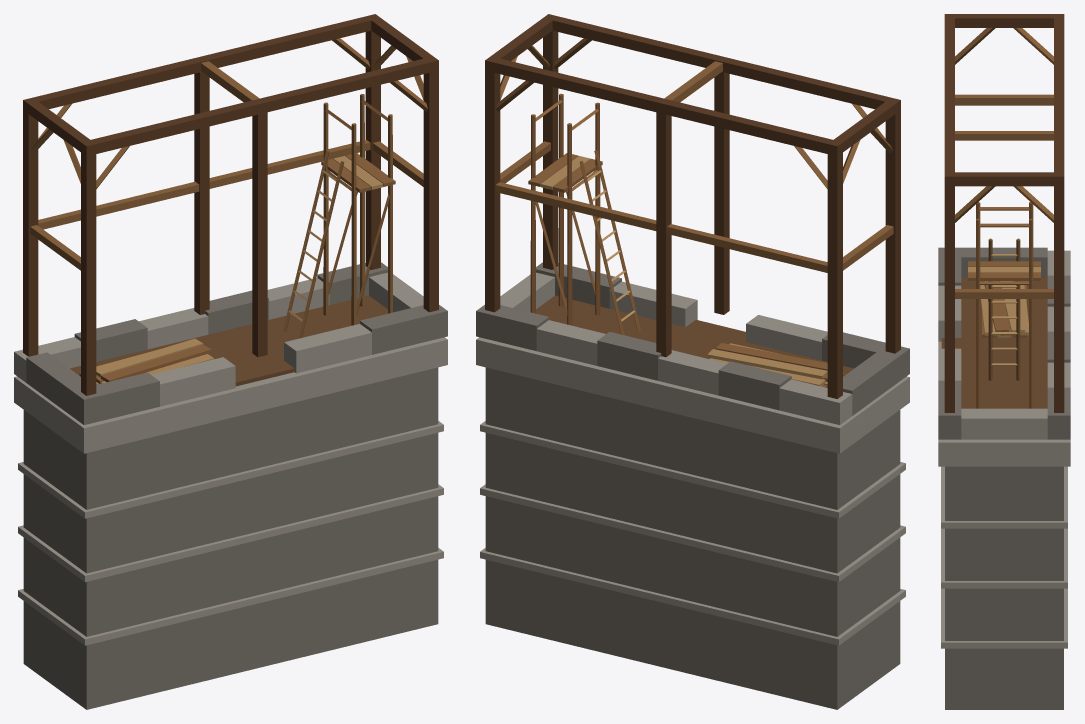
The model's file is site_6x2_2.glb.
3 renders of one model, left to right at view 1: azimuth 30°, elevation 25°; view 2: azimuth 150°, elevation 25°; view 3: azimuth 270°, elevation 25°, orthographic. The views are drawn at different scales.
Parts seen in each view (by area): view 1: site_6x2_2; view 2: site_6x2_2; view 3: site_6x2_2.
Boxes of the visible parts, box(x1,y1,x2,y2) form: site_6x2_2: box(14, 14, 447, 709); site_6x2_2: box(476, 14, 909, 709); site_6x2_2: box(938, 14, 1070, 709).
Bounding box in the file's own units: 6 × 8.88 × 2.
